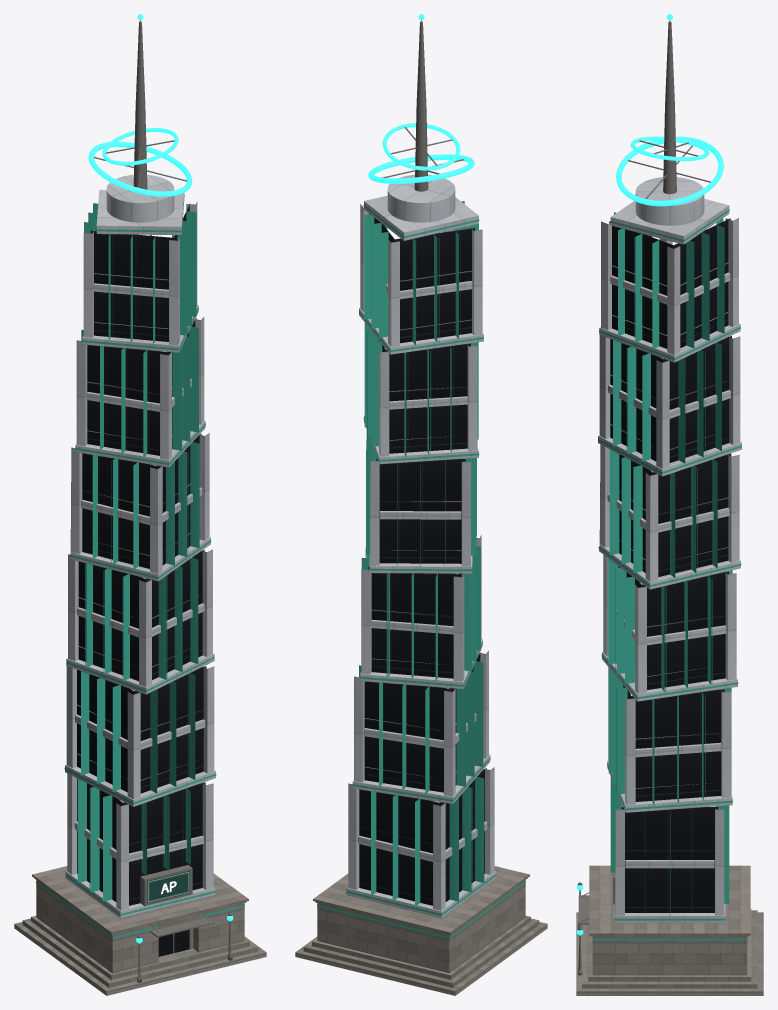
The model's file is agentic-payments.glb.
3 renders of one model, left to right at view 1: azimuth 30°, elevation 25°; view 2: azimuth 150°, elevation 25°; view 3: azimuth 270°, elevation 25°, orthographic.
Parts seen in each view (by area): view 1: Landmark · Agentic Payments; view 2: Landmark · Agentic Payments; view 3: Landmark · Agentic Payments.
Part boxes in pixels (box(x1,y1,x2,y2)): Landmark · Agentic Payments: box(14, 14, 266, 995); Landmark · Agentic Payments: box(295, 14, 547, 995); Landmark · Agentic Payments: box(576, 14, 763, 995).
Size of the model in its own units: 12 by 66.5 by 12.
7 materials, 4 textured.
